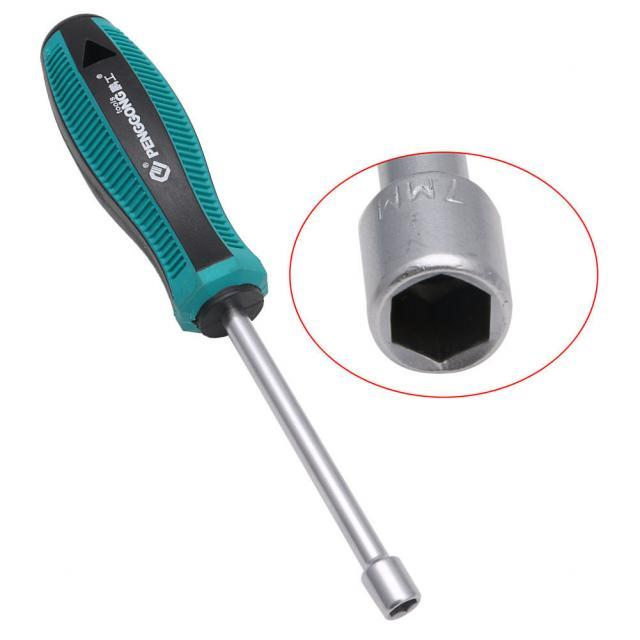screwdriver: (34, 5, 424, 626)
